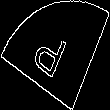P_SW: (34, 24, 76, 86)
